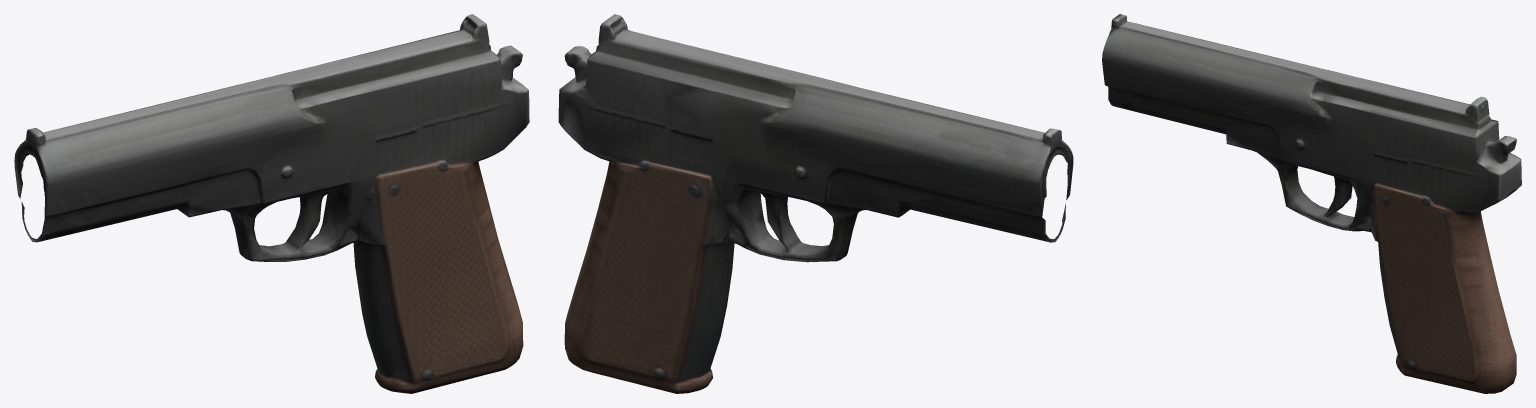
File: gun_pistol.glb
3 renders of one model, left to right at view 1: azimuth 30°, elevation 25°; view 2: azimuth 150°, elevation 25°; view 3: azimuth 330°, elevation 25°, orthographic. The views are drawn at different scales.
Parts seen in each view (by area): view 1: gun_pistol; view 2: gun_pistol; view 3: gun_pistol.
Boxes of the visible parts, left/top/right/bottom form: gun_pistol: left=14, top=14, right=529, bottom=393; gun_pistol: left=558, top=14, right=1073, bottom=393; gun_pistol: left=1102, top=14, right=1521, bottom=393.
Bounding box in the file's own units: 0.998 × 0.6877 × 0.1231.
1 material, 1 textured.
